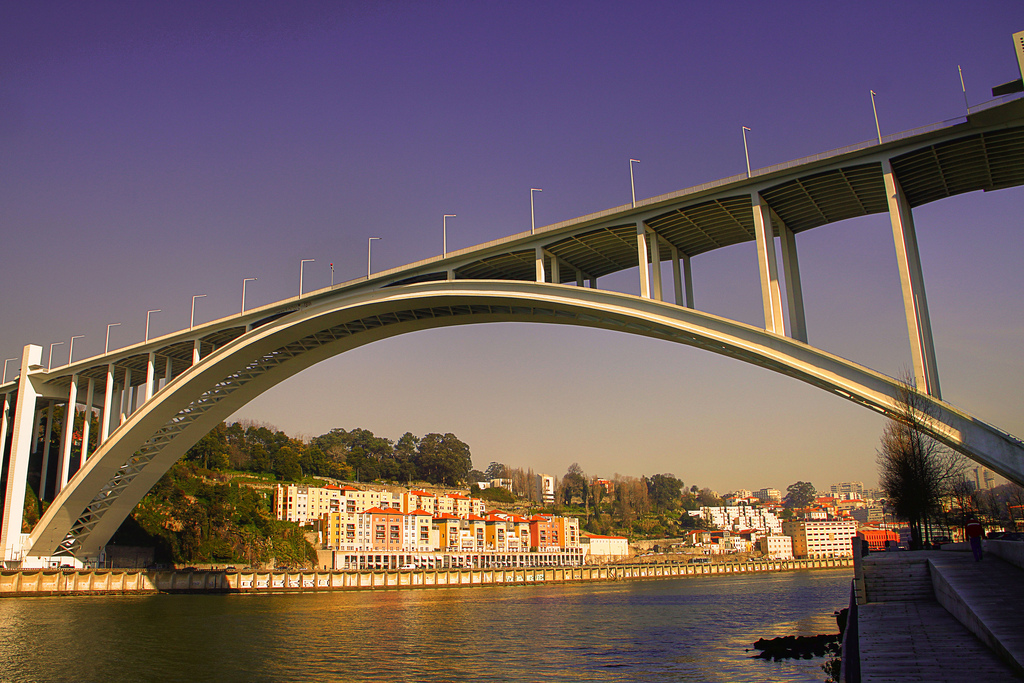arrabida: (0, 27, 1023, 570)
